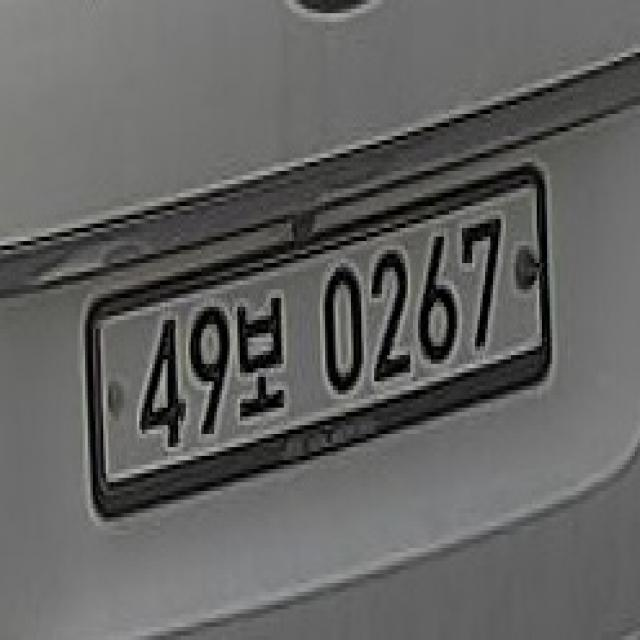0: (315, 258, 364, 398)
2: (371, 236, 414, 384)
4: (139, 316, 187, 449)
6: (420, 232, 458, 370)
7: (462, 209, 506, 355)
9: (190, 304, 229, 434)
bo: (235, 276, 292, 425)
license_plate: (80, 150, 558, 546)
